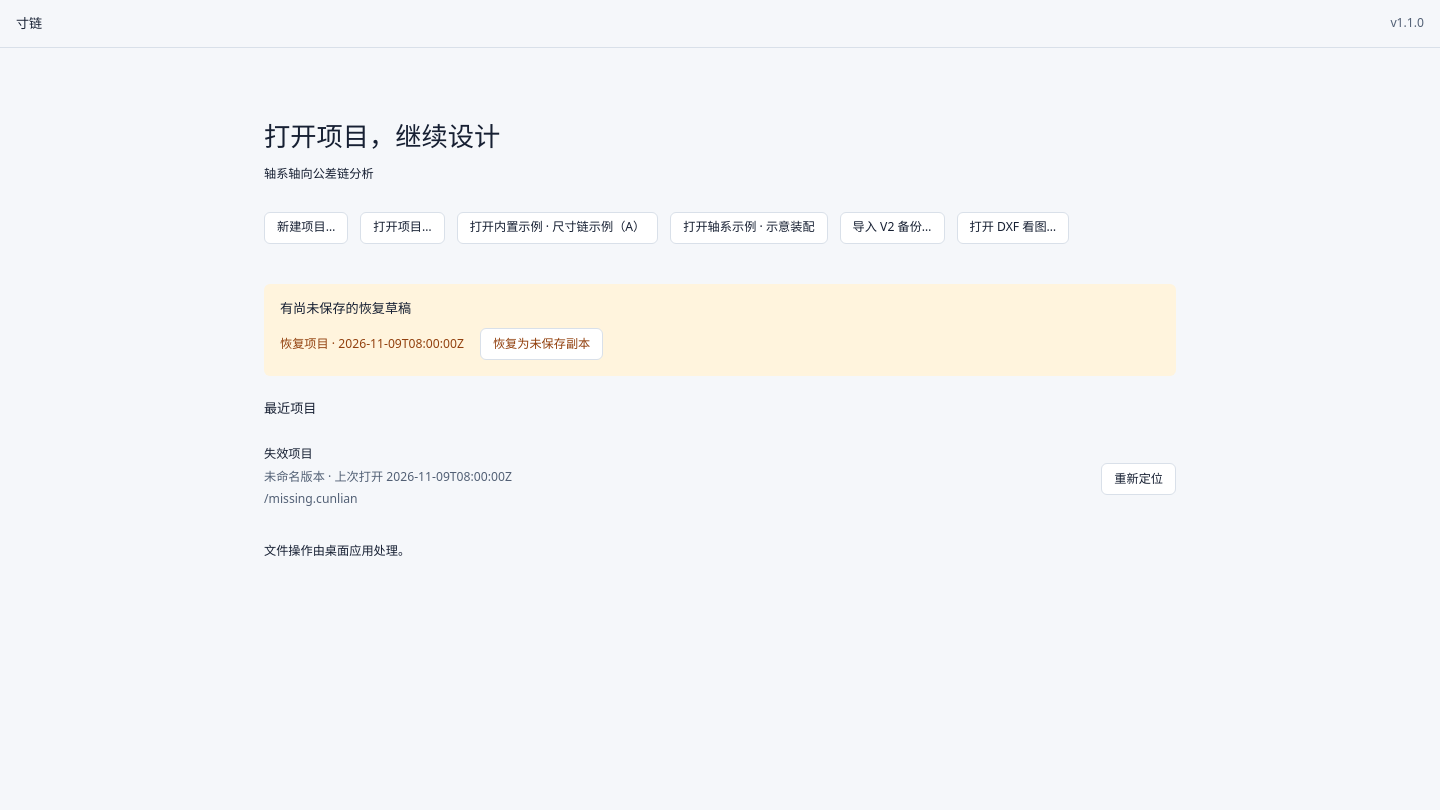
it: A-04b 会话接线 › 无任务书项目：标题栏标清“依据：用户输入，无外部原文件”
The image size is (1440, 810).
Click the button "打开内置示例 · 尺寸链示例（A）": (558, 228) left=457, top=212, right=658, bottom=244
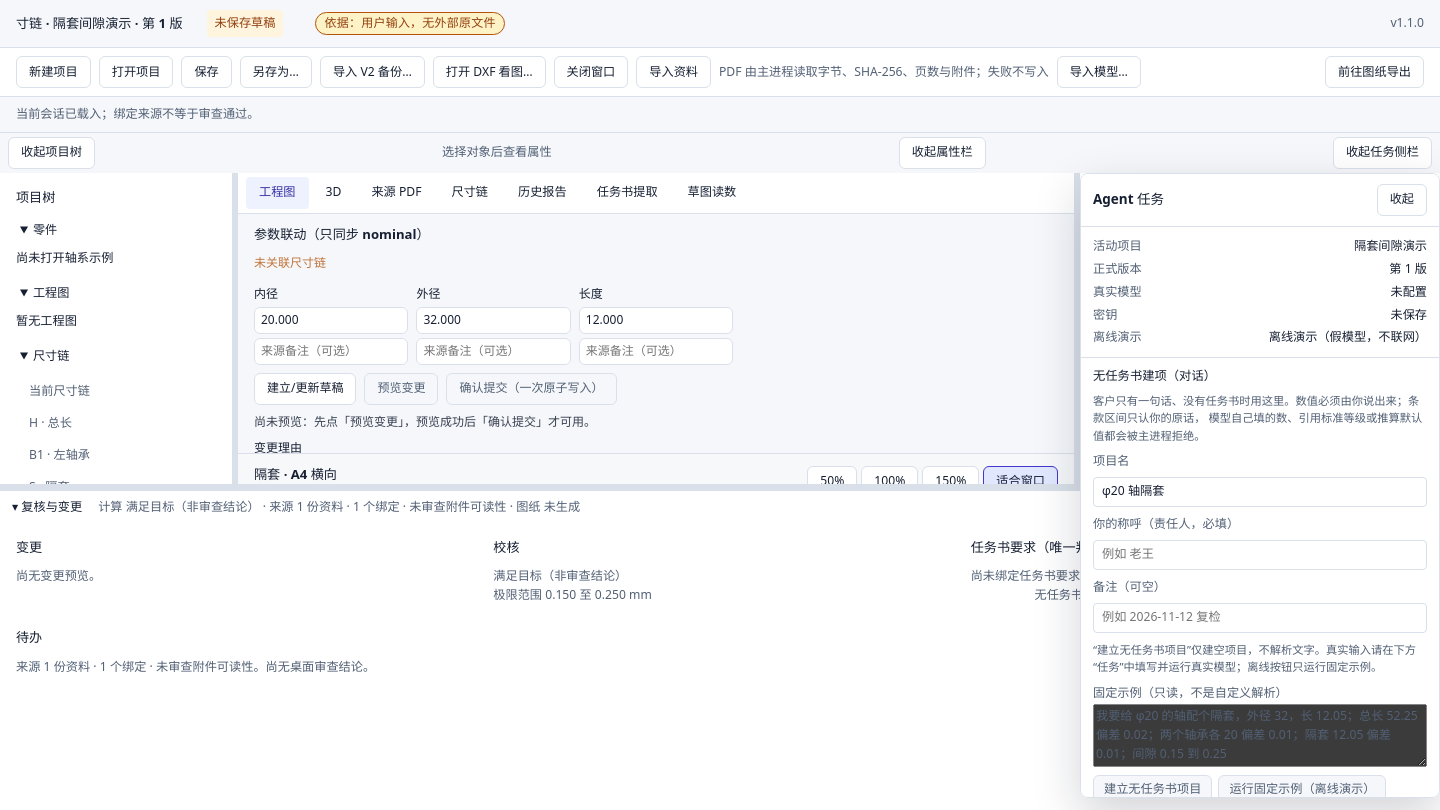
Now the element named "寸链桌面工作台" is shown
Now the button "保存" is enabled, box left=181, top=56, right=232, bottom=88
Now the text with test id "project-source-note" reads "依据：用户输入，无外部原文件", box left=324, top=14, right=496, bottom=31
